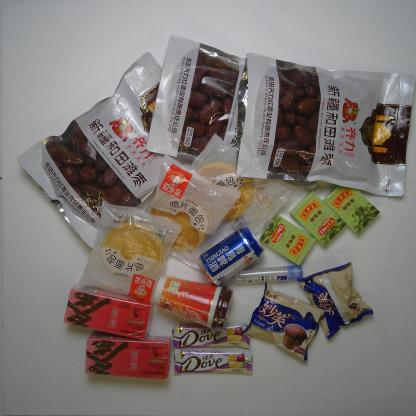Alcohol: (196, 226, 264, 286)
Candy: (290, 190, 346, 248), (256, 213, 315, 267), (325, 182, 380, 235)
Chocolate: (172, 348, 256, 378), (171, 321, 255, 349)
Dessert: (180, 134, 296, 243), (146, 157, 244, 274), (76, 196, 184, 298), (242, 280, 326, 361), (300, 261, 374, 340)
Dried Food: (15, 48, 179, 250), (236, 49, 416, 199), (146, 32, 260, 174)
Instant Drink: (63, 284, 153, 340), (154, 272, 235, 333), (81, 331, 172, 380)
Stationery: (233, 266, 310, 283)
